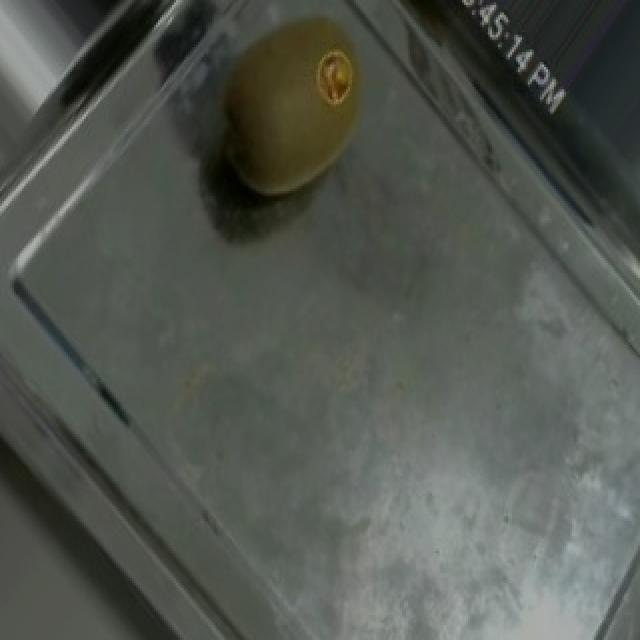Fruit: (178, 0, 388, 228)
